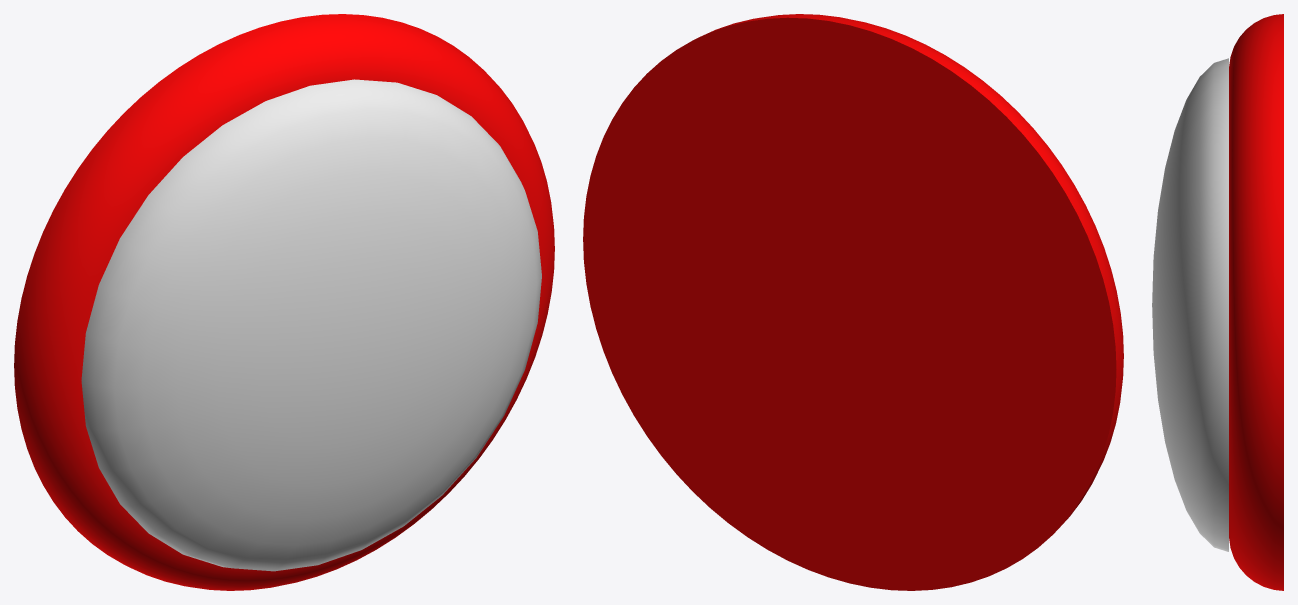
File: RoundButton.FBX
3 renders of one model, left to right at view 1: azimuth 30°, elevation 25°; view 2: azimuth 150°, elevation 25°; view 3: azimuth 270°, elevation 25°, orthographic. The views are drawn at different scales.
Parts seen in each view (by area): view 1: button, buttonBase; view 2: buttonBase; view 3: buttonBase, button.
Boxes of the visible parts, x1,y1,x2,y2 form: button: (81, 79, 541, 571); buttonBase: (14, 14, 554, 590); buttonBase: (583, 14, 1123, 590); buttonBase: (1229, 14, 1283, 590); button: (1152, 58, 1228, 551).
Size of the model in its own units: 239 by 239 by 54.63.
